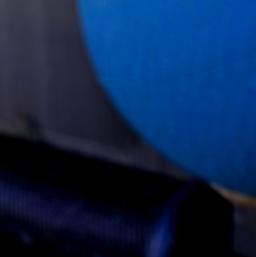algae: (73, 0, 256, 193)
